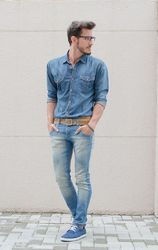NOTSAFE: (51, 19, 101, 135)
